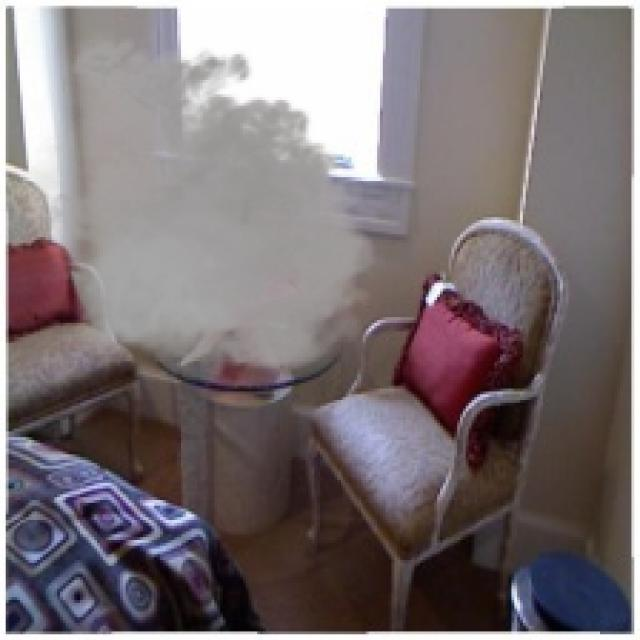smoke: (11, 28, 388, 383)
